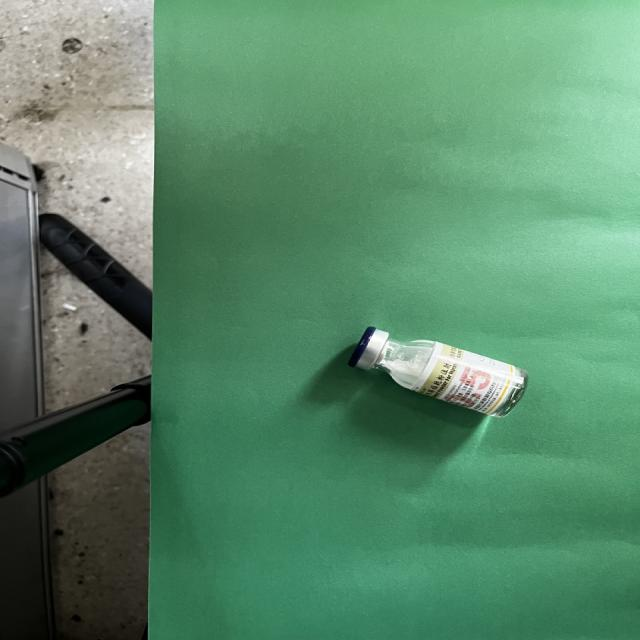Vials: (349, 327, 527, 416)
